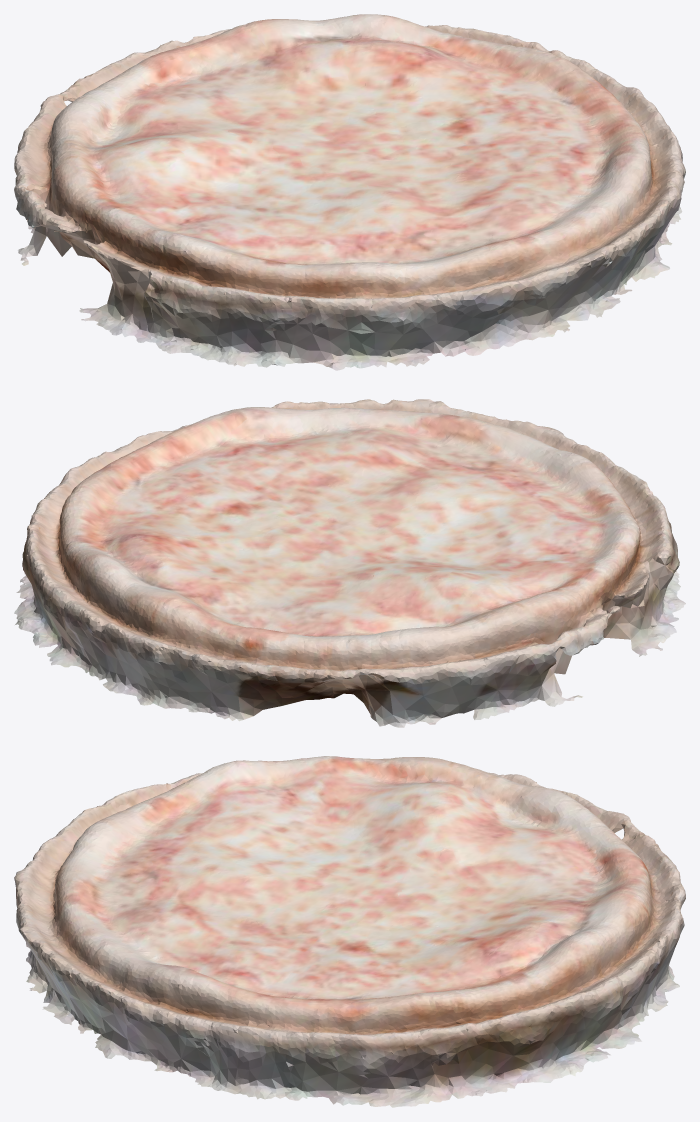
The model's file is qr3d-scan-demo.glb.
The picture shows the model from 3 angles, top to bottom: view 1: azimuth 30°, elevation 25°; view 2: azimuth 150°, elevation 25°; view 3: azimuth 270°, elevation 25°; orthographic projection. The views are drawn at different scales.
Visible parts, largest first — view 1: texturedMesh; view 2: texturedMesh; view 3: texturedMesh.
Part boxes in pixels (box(x1,y1,x2,y2)): texturedMesh: box(14, 14, 685, 370); texturedMesh: box(14, 399, 685, 727); texturedMesh: box(14, 756, 685, 1107).
Bounding box in the file's own units: 0.28 × 0.0416 × 0.2745.
Materials: 2 (2 with a texture image).
